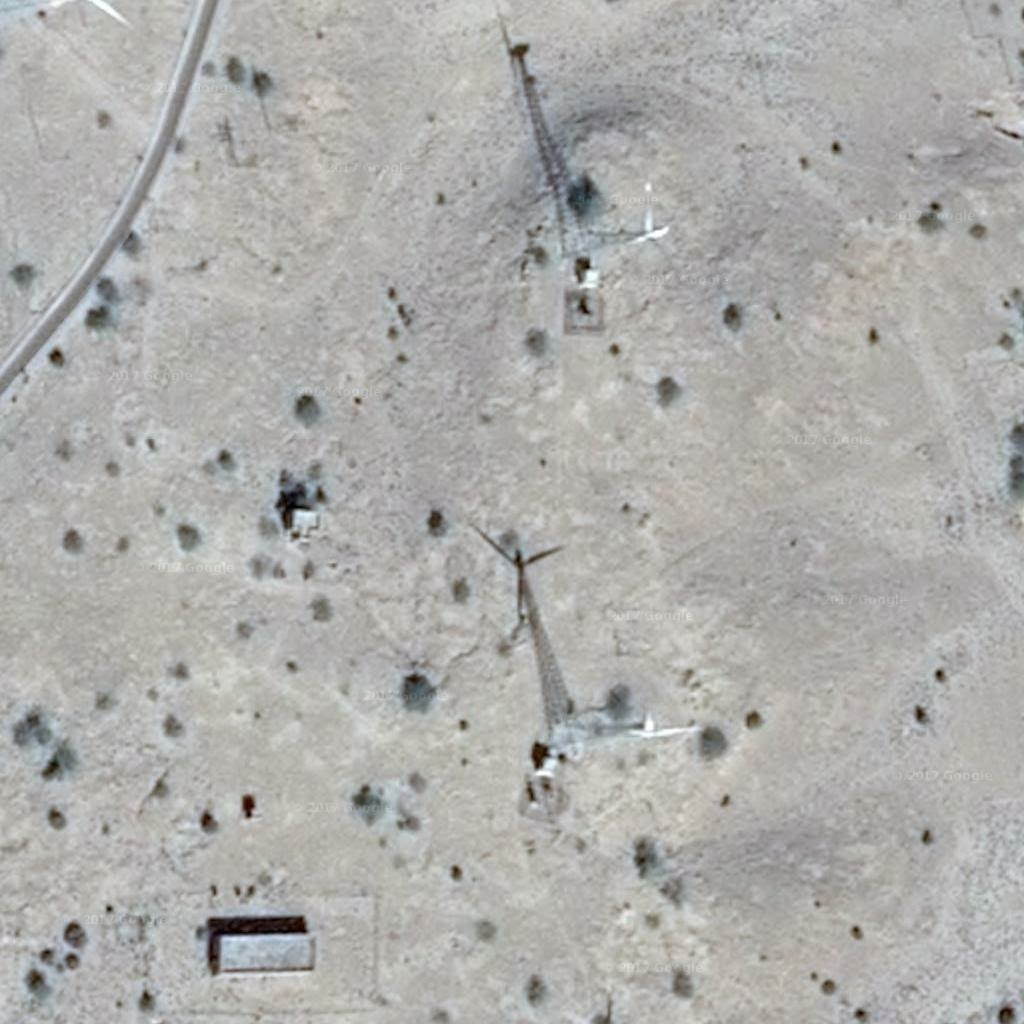Windmill: (476, 25, 603, 235)
